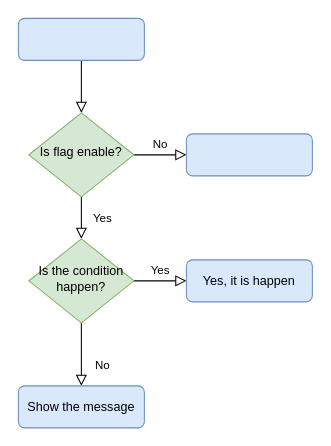
The diagram is 331 pixels wide and 446 high, and some of its shapes have lost their labels. The shapes that lost their labels are listed below. From the top down, each one's centre as x and y in pixels, then its label:
At (x=80, y=38): "Application startup".
At (x=248, y=154): "Stop the process".
